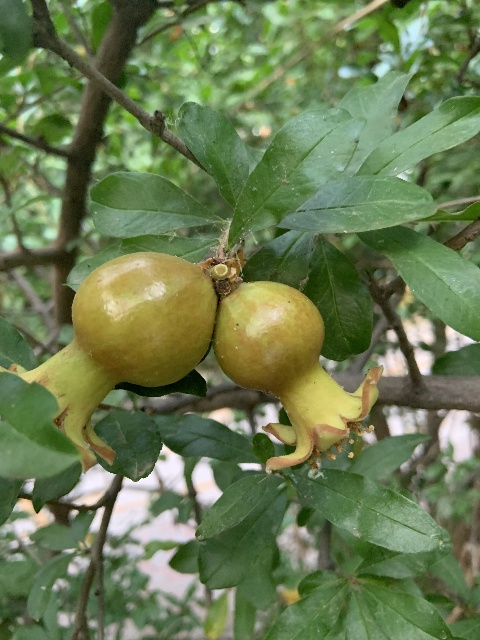mid-growth: (2, 252, 217, 473), (212, 280, 380, 471)
